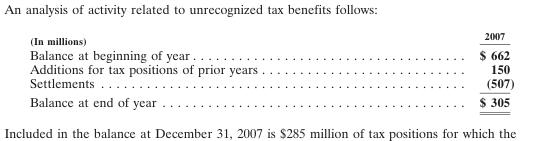table: (29, 29, 514, 109)
table column: (29, 29, 367, 109), (367, 29, 514, 109)
table column header: (29, 29, 514, 46)
table row: (29, 29, 514, 46), (29, 75, 514, 92), (29, 92, 514, 109), (29, 46, 514, 61), (29, 61, 514, 75)
